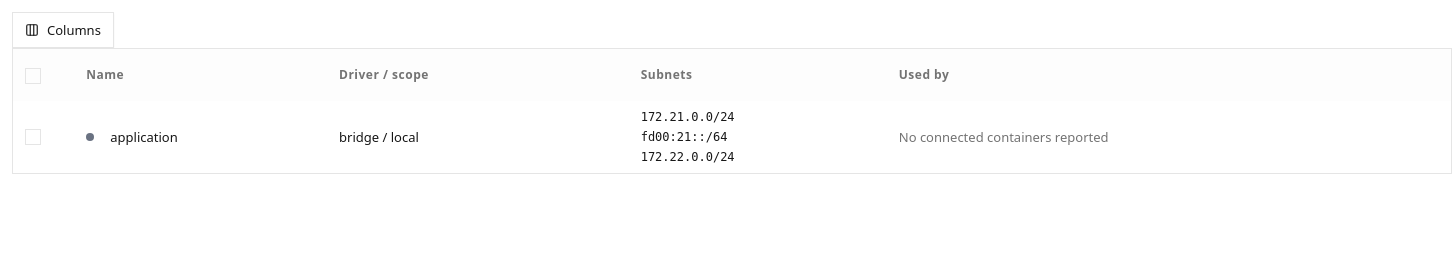
Test: network list › toggles optional columns through the shared menu and persists the selection locally
Click the button "Columns" at coordinates (63, 30), box [12,12,114,48]
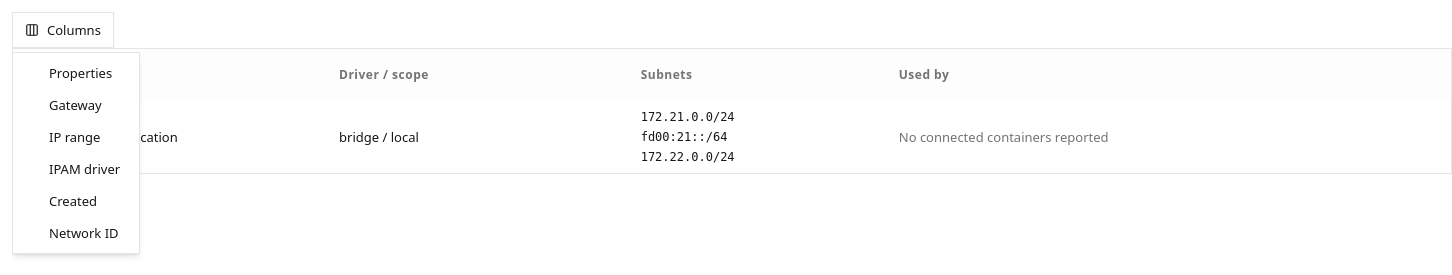
Click the menu item "Gateway" at coordinates (75, 105), box [49,96,102,114]
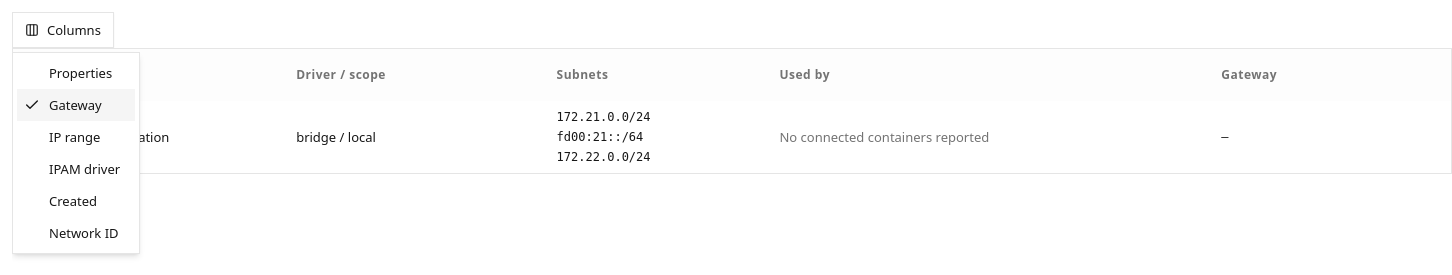
Expected: the menu item "Gateway" is checked, [17,89,135,121]
Press Escape
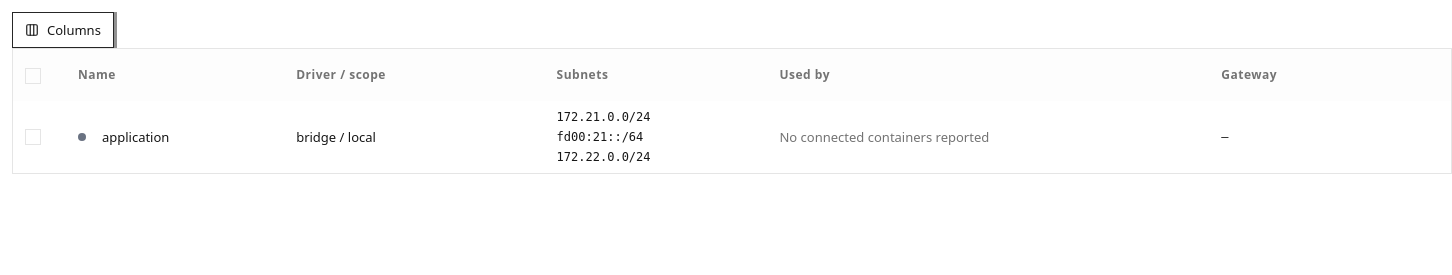
Expected: the column heading "Gateway" is shown, [1209,49,1406,101]
Click the button "Columns" at coordinates (63, 30), box [12,12,114,48]
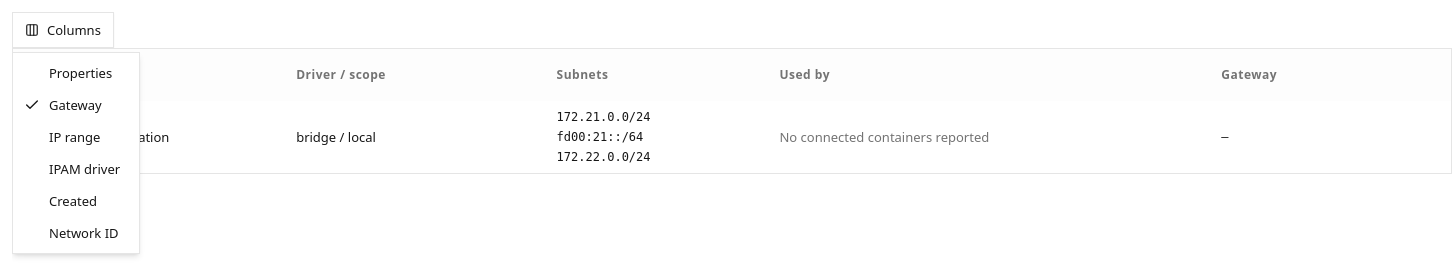
Click the menu item "Gateway" at coordinates (63, 105), box [24,96,102,114]
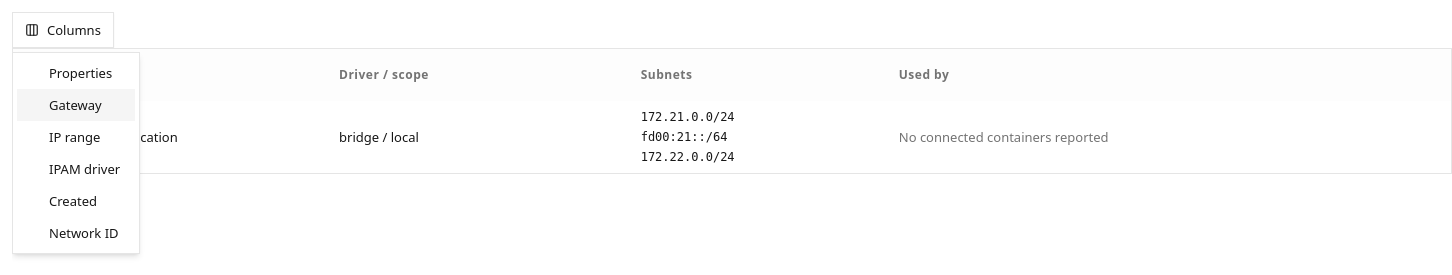
Press Escape
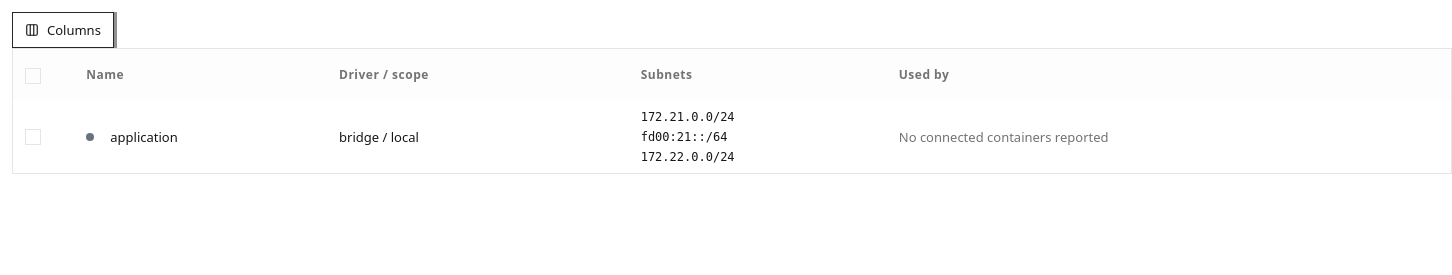
Expected: the menu item "Gateway" is gone
